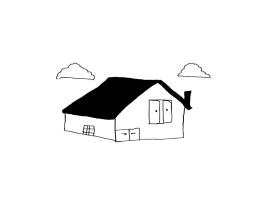chimney: (179, 87, 202, 111)
clouds: (52, 57, 96, 84), (175, 59, 216, 83)
door: (113, 123, 142, 146), (80, 122, 99, 139)
open_window: (146, 96, 173, 127)
shaded_roof: (59, 75, 205, 119)
small_house: (1, 1, 260, 209)
wall: (112, 92, 188, 144)
